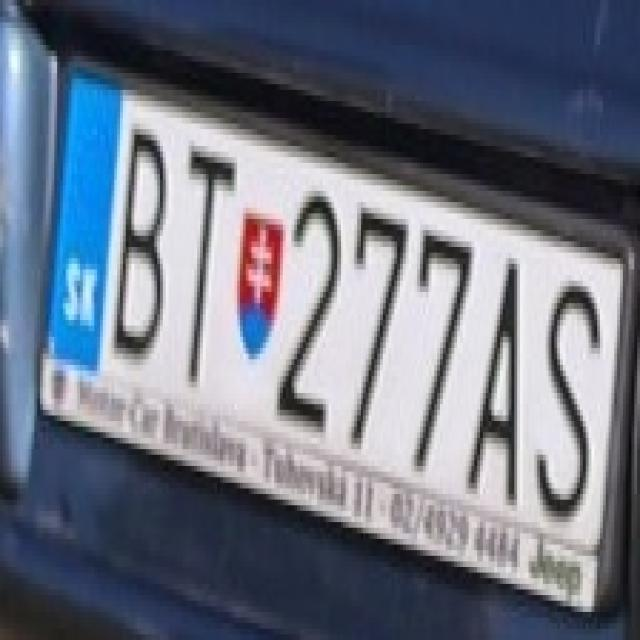2: (268, 168, 346, 432)
7: (402, 208, 478, 472), (337, 185, 409, 444)
A: (461, 247, 528, 505)
B: (102, 112, 172, 365)
S: (523, 264, 606, 516)
T: (168, 129, 240, 382)
